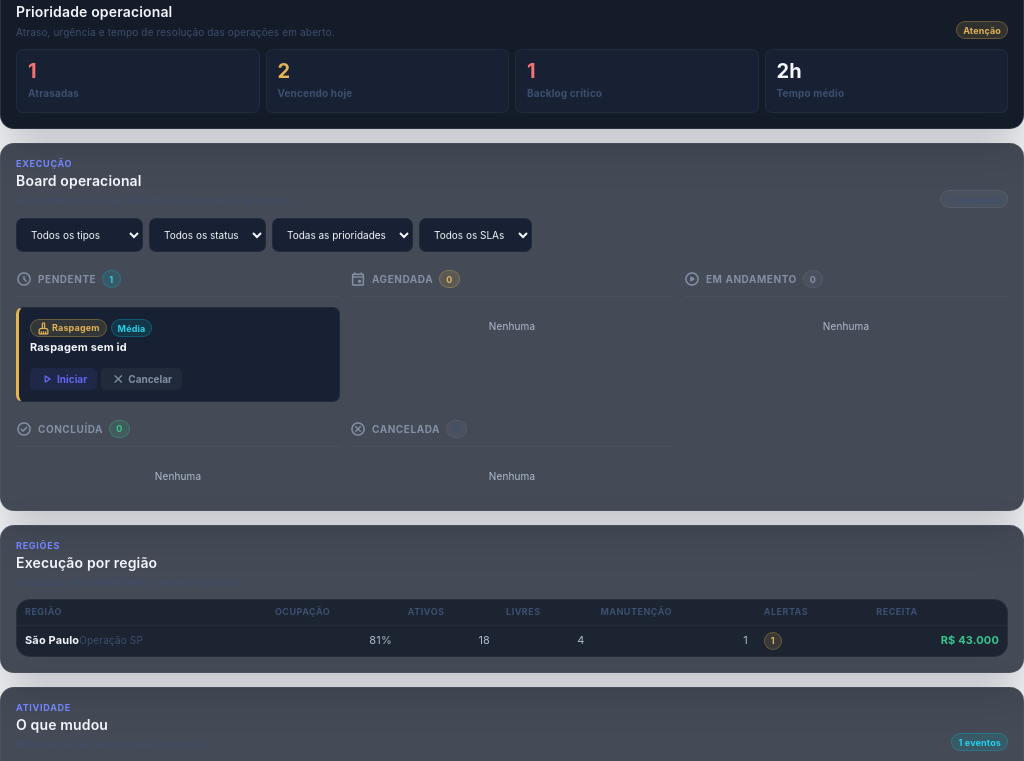
Test: OperationsPage smoke › nao chama a API ao tentar iniciar operacao sem id e mostra erro amigavel
The image size is (1024, 761).
(page scrolled)
Click the button "Iniciar".
click(64, 378)  # box [30,368,97,390]
(page scrolled)
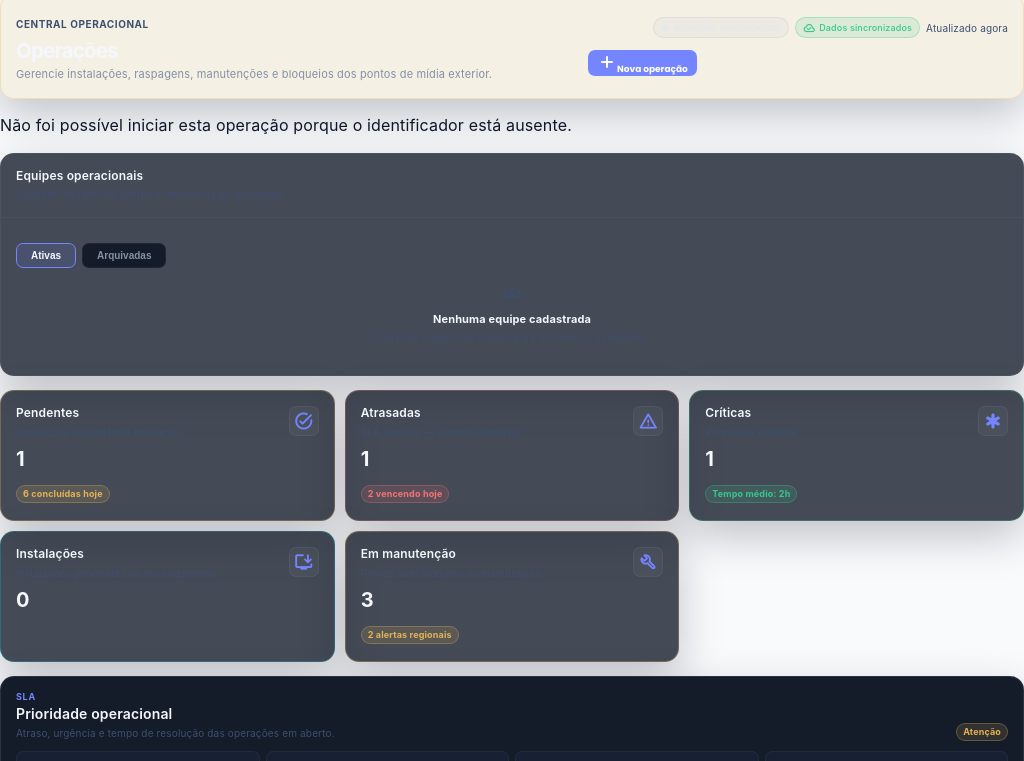
Result: the message "Não foi possível iniciar esta operação porque o identificador está ausente." is shown at [0,115,572,135]
